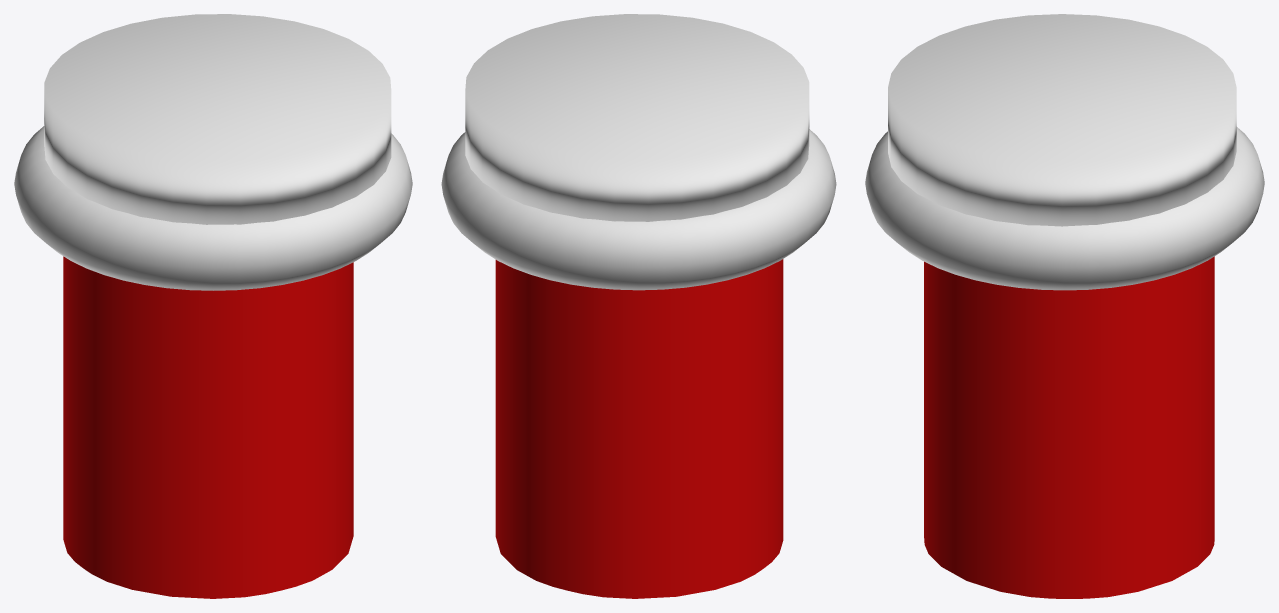
File: hose.fbx
3 renders of one model, left to right at view 1: azimuth 30°, elevation 25°; view 2: azimuth 150°, elevation 25°; view 3: azimuth 270°, elevation 25°, orthographic.
Parts seen in each view (by area): view 1: Surface, Cylinder_001, Torus; view 2: Surface, Cylinder_001, Torus; view 3: Surface, Cylinder_001, Torus.
Part boxes in pixels (left/top/right/bottom): Surface: left=63, top=256, right=353, bottom=598; Cylinder_001: left=44, top=14, right=391, bottom=224; Torus: left=14, top=126, right=412, bottom=290; Surface: left=495, top=259, right=783, bottom=598; Cylinder_001: left=465, top=14, right=809, bottom=221; Torus: left=441, top=129, right=836, bottom=290; Surface: left=924, top=256, right=1214, bottom=598; Cylinder_001: left=888, top=14, right=1236, bottom=226; Torus: left=865, top=127, right=1264, bottom=290.
Bounding box in the file's own units: 2.75 × 3.44 × 2.75.
